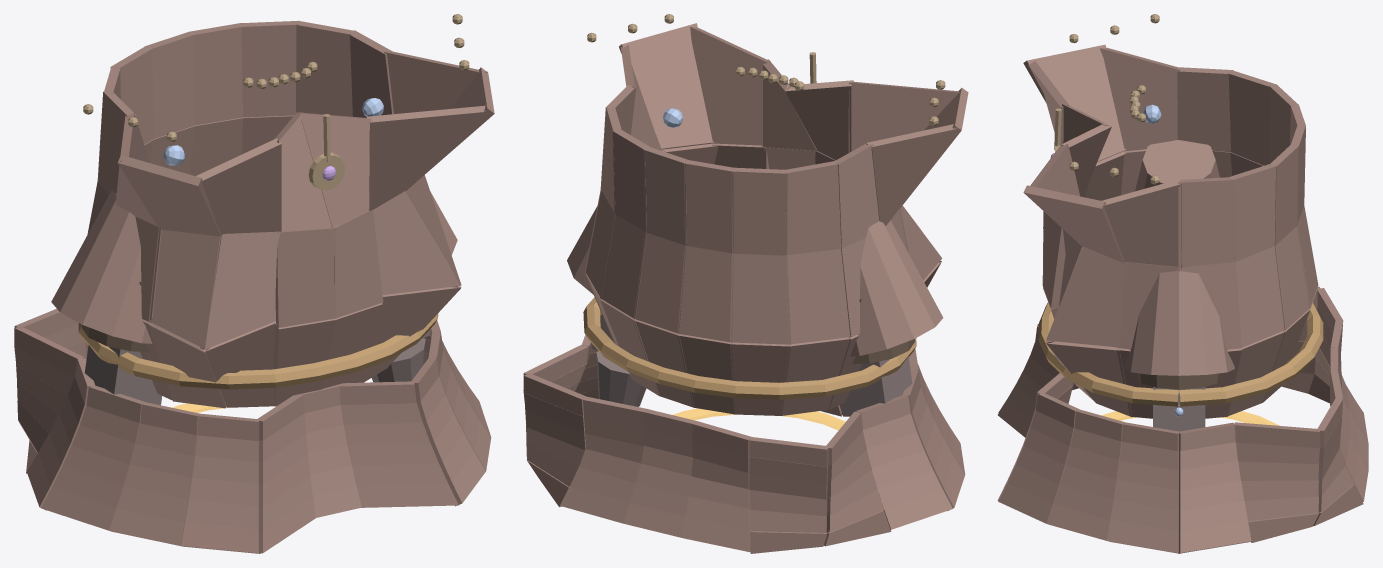
Rendered from sage_kit.glb.
3 views of the same model, side by side, from view 1: azimuth 30°, elevation 25°; view 2: azimuth 150°, elevation 25°; view 3: azimuth 270°, elevation 25° (orthographic). The views are drawn at different scales.
Visible parts, largest first — view 1: Armour_Robe_cloth_sage, Armour_SleeveR_cloth_sage, Armour_Robe_trim_sage, Acc_Amulet_metal_sage, Acc_GloveR_cloth_sage, Acc_GloveL_cloth_sage, Acc_GloveR_leather_sage; view 2: Armour_Robe_cloth_sage, Armour_SleeveR_cloth_sage, Armour_Robe_trim_sage, Acc_GloveR_cloth_sage, Acc_GloveL_cloth_sage, Acc_Amulet_metal_sage, Armour_SleeveL_cloth_sage, Armour_Robe_glow_sage, Acc_GloveR_leather_sage; view 3: Armour_Robe_cloth_sage, Armour_SleeveL_cloth_sage, Armour_Robe_trim_sage, Armour_SleeveR_cloth_sage, Acc_GloveL_cloth_sage, Acc_Amulet_metal_sage, Acc_GloveL_leather_sage, Armour_Robe_glow_sage.
Part boxes in pixels (x1=…): Armour_Robe_cloth_sage: x1=14, y1=20, x2=494, y2=553; Armour_SleeveR_cloth_sage: x1=51, y1=190, x2=152, y2=343; Armour_Robe_trim_sage: x1=78, y1=313, x2=438, y2=389; Acc_Amulet_metal_sage: x1=83, y1=14, x2=469, y2=190; Acc_GloveR_cloth_sage: x1=84, y1=345, x2=162, y2=405; Acc_GloveL_cloth_sage: x1=372, y1=330, x2=429, y2=382; Acc_GloveR_leather_sage: x1=82, y1=282, x2=149, y2=351; Armour_Robe_cloth_sage: x1=523, y1=23, x2=968, y2=553; Armour_SleeveR_cloth_sage: x1=850, y1=220, x2=943, y2=356; Armour_Robe_trim_sage: x1=583, y1=297, x2=916, y2=399; Acc_GloveR_cloth_sage: x1=840, y1=356, x2=912, y2=415; Acc_GloveL_cloth_sage: x1=592, y1=314, x2=646, y2=406; Acc_Amulet_metal_sage: x1=587, y1=14, x2=945, y2=125; Armour_SleeveL_cloth_sage: x1=567, y1=206, x2=597, y2=294; Armour_Robe_glow_sage: x1=673, y1=408, x2=845, y2=430; Acc_GloveR_leather_sage: x1=852, y1=299, x2=914, y2=363; Armour_Robe_cloth_sage: x1=997, y1=44, x2=1368, y2=553; Armour_SleeveL_cloth_sage: x1=1123, y1=271, x2=1234, y2=375; Armour_Robe_trim_sage: x1=1038, y1=302, x2=1323, y2=406; Armour_SleeveR_cloth_sage: x1=1135, y1=140, x2=1219, y2=191; Acc_GloveL_cloth_sage: x1=1153, y1=387, x2=1205, y2=431; Acc_Amulet_metal_sage: x1=1054, y1=14, x2=1159, y2=184; Acc_GloveL_leather_sage: x1=1138, y1=373, x2=1220, y2=389; Armour_Robe_glow_sage: x1=1101, y1=411, x2=1279, y2=425.
Bounding box in the file's own units: 1.18 × 1.06 × 0.9643.
